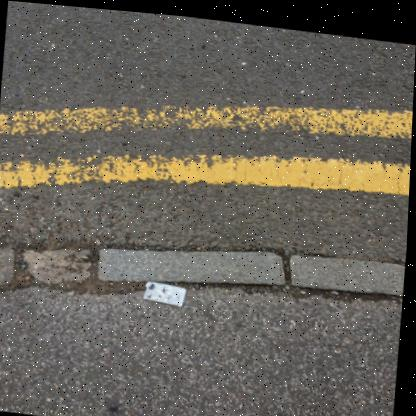Metal: (145, 278, 188, 302)
